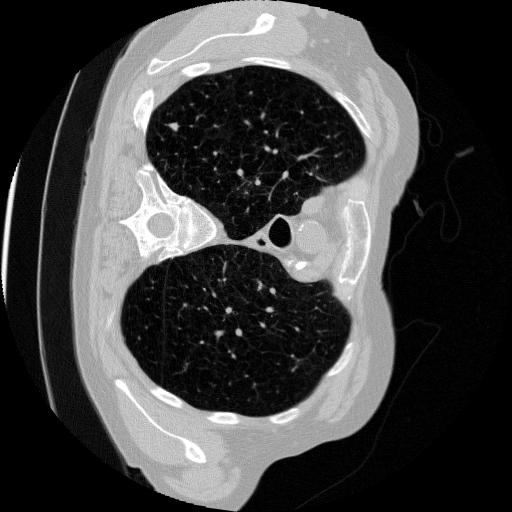nodule: (166, 117, 184, 135)
